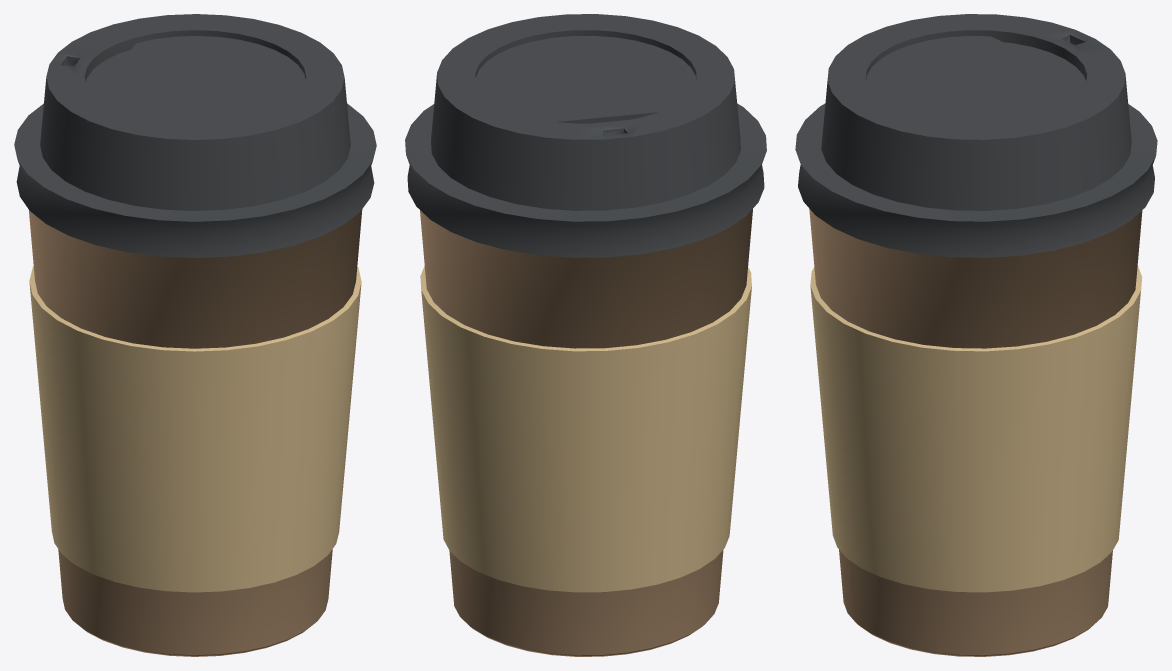
File: cup.fbx
The picture shows the model from 3 angles, left to right: view 1: azimuth 30°, elevation 25°; view 2: azimuth 150°, elevation 25°; view 3: azimuth 270°, elevation 25°; orthographic projection.
Visible parts, largest first — view 1: Cylinder.001; view 2: Cylinder.001; view 3: Cylinder.001.
Part boxes in pixels (x1,y1,x2,y2): Cylinder.001: (14,14,376,656); Cylinder.001: (405,14,766,656); Cylinder.001: (795,14,1157,656).
Size of the model in its own units: 0.1098 by 0.1757 by 0.1098.
